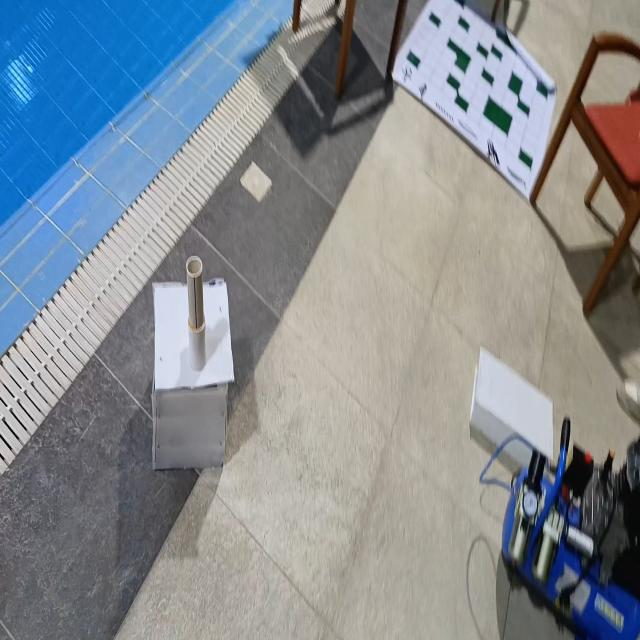Cube: (150, 274, 235, 471)
Cuboid: (469, 344, 554, 468)
